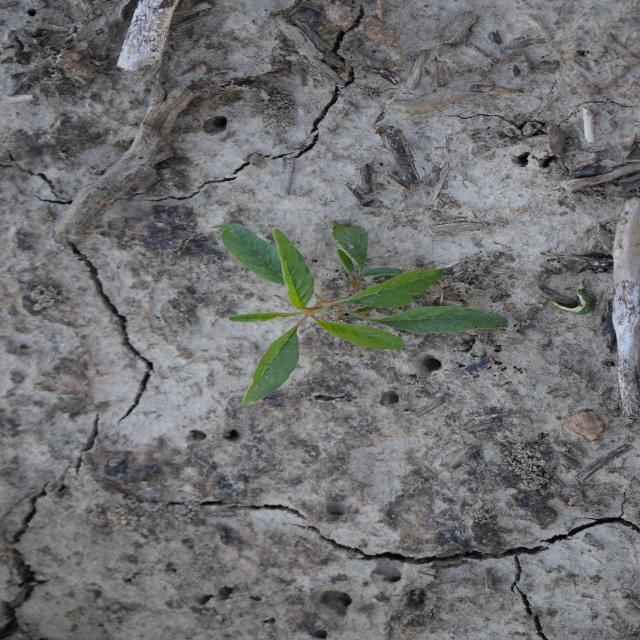Waterhemp: (208, 219, 512, 408)
